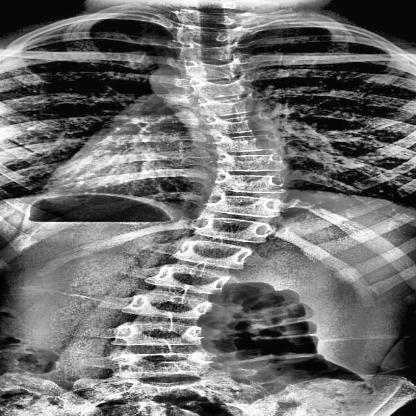Vertebrae: (173, 217, 283, 239), (142, 268, 254, 286), (109, 326, 213, 344), (160, 244, 262, 262), (118, 299, 226, 313), (195, 137, 301, 151), (195, 118, 287, 134), (197, 198, 296, 212), (178, 62, 258, 78), (188, 101, 272, 116), (173, 9, 247, 25), (200, 176, 298, 188), (196, 156, 294, 168), (181, 84, 273, 96), (170, 29, 246, 43), (178, 44, 247, 58)
